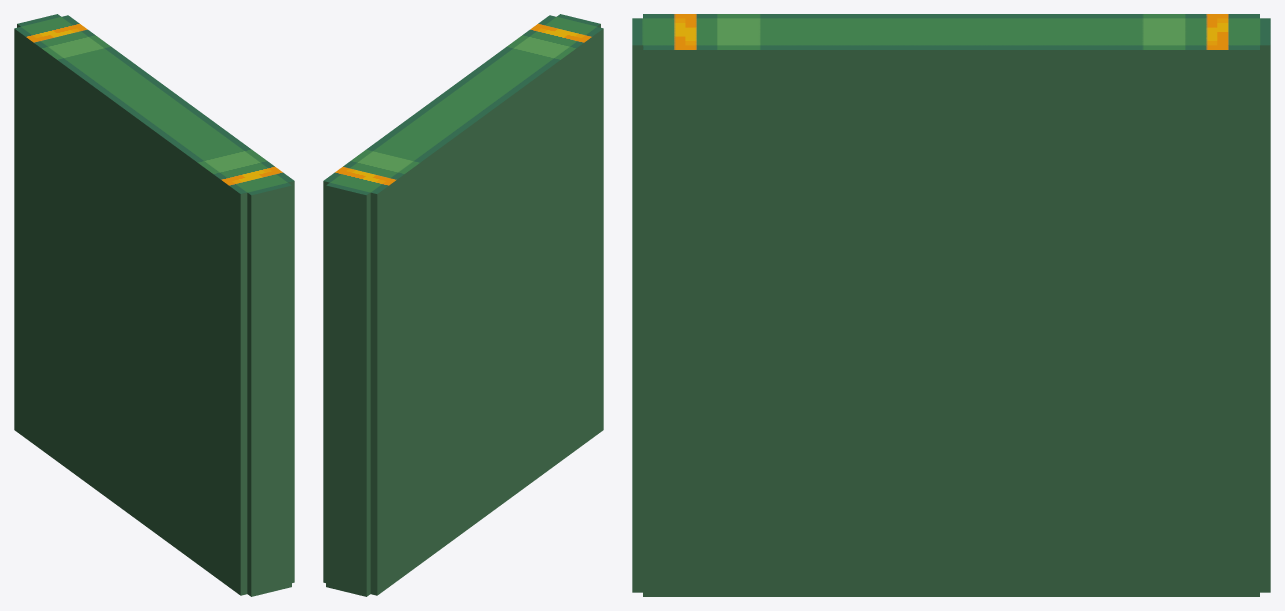
The model's file is book5-1.glb.
The picture shows the model from 3 angles, left to right: view 1: azimuth 30°, elevation 25°; view 2: azimuth 150°, elevation 25°; view 3: azimuth 270°, elevation 25°; orthographic projection. The views are drawn at different scales.
Parts seen in each view (by area): view 1: book_spines.002-col; view 2: book_spines.002-col; view 3: book_spines.002-col.
Part boxes in pixels (x1=…): book_spines.002-col: x1=14, y1=14, x2=294, y2=596; book_spines.002-col: x1=323, y1=14, x2=603, y2=596; book_spines.002-col: x1=632, y1=14, x2=1270, y2=596.
Size of the model in its own units: 0.125 by 0.8864 by 0.9375.
Materials: 2 (1 with a texture image).
